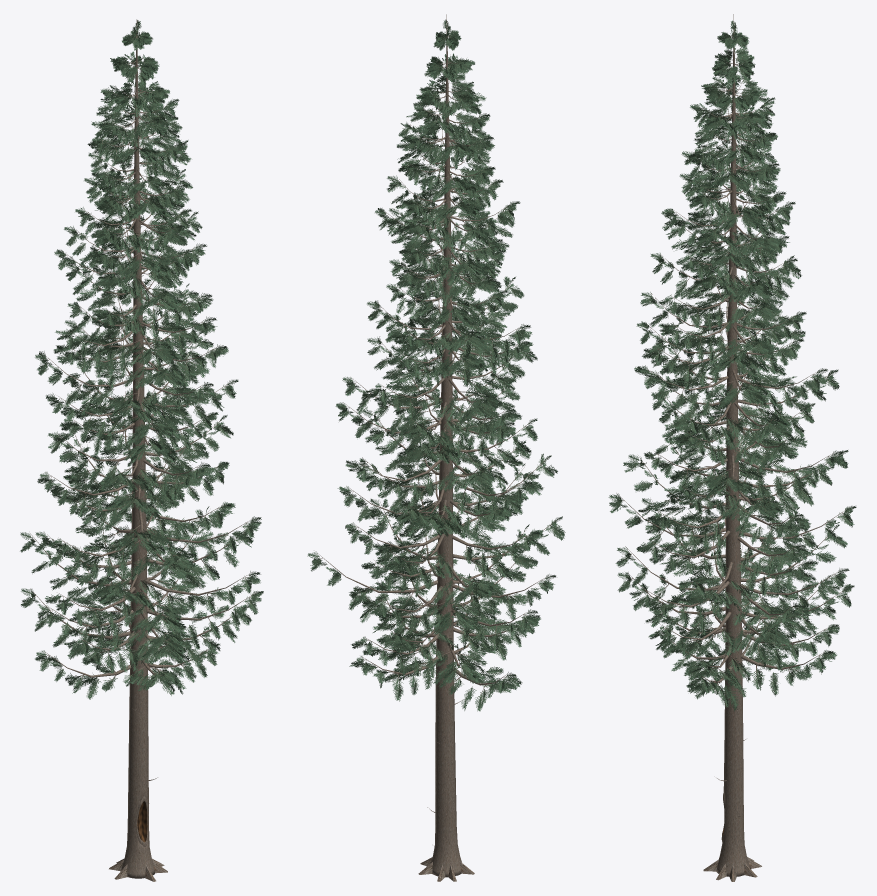
Rendered from SS_Defect_Cavity_PostMature_02_LOD0.fbx.
3 views of the same model, side by side, from view 1: azimuth 30°, elevation 25°; view 2: azimuth 150°, elevation 25°; view 3: azimuth 270°, elevation 25° (orthographic).
Visible parts, largest first — view 1: SS_Defect_Cavity_PostMature_02_LOD0_Foliage, SS_Defect_Cavity_PostMature_02_LOD0_Branches, SS_Defect_Cavity_PostMature_02_LOD0_Trunk; view 2: SS_Defect_Cavity_PostMature_02_LOD0_Foliage, SS_Defect_Cavity_PostMature_02_LOD0_Branches, SS_Defect_Cavity_PostMature_02_LOD0_Trunk; view 3: SS_Defect_Cavity_PostMature_02_LOD0_Foliage, SS_Defect_Cavity_PostMature_02_LOD0_Branches, SS_Defect_Cavity_PostMature_02_LOD0_Trunk.
Part boxes in pixels (left/top/right/bottom): SS_Defect_Cavity_PostMature_02_LOD0_Foliage: left=20, top=20, right=263, bottom=699; SS_Defect_Cavity_PostMature_02_LOD0_Branches: left=30, top=36, right=254, bottom=803; SS_Defect_Cavity_PostMature_02_LOD0_Trunk: left=109, top=19, right=167, bottom=881; SS_Defect_Cavity_PostMature_02_LOD0_Foliage: left=307, top=19, right=565, bottom=711; SS_Defect_Cavity_PostMature_02_LOD0_Branches: left=315, top=36, right=558, bottom=846; SS_Defect_Cavity_PostMature_02_LOD0_Trunk: left=418, top=14, right=474, bottom=881; SS_Defect_Cavity_PostMature_02_LOD0_Foliage: left=608, top=20, right=856, bottom=711; SS_Defect_Cavity_PostMature_02_LOD0_Branches: left=616, top=35, right=847, bottom=850; SS_Defect_Cavity_PostMature_02_LOD0_Trunk: left=703, top=14, right=761, bottom=881.
Bounding box in the file's own units: 834 × 3100 × 858.
Materials: 3 (3 with a texture image).
